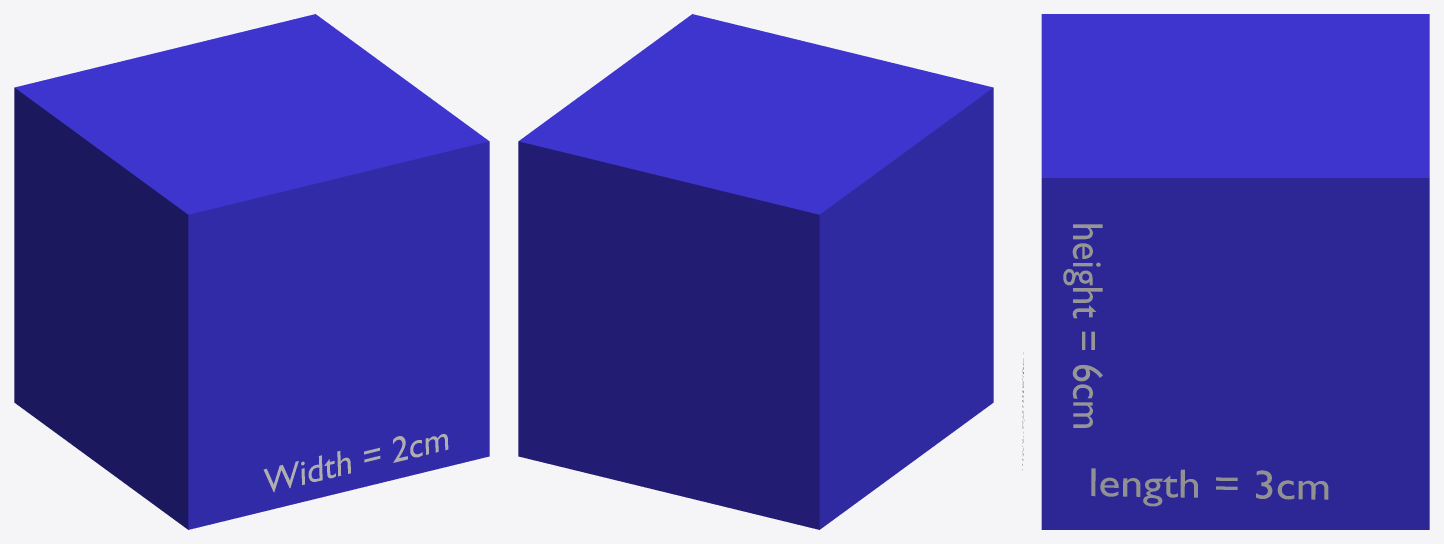
File: rectang2x2x2.glb
3 renders of one model, left to right at view 1: azimuth 30°, elevation 25°; view 2: azimuth 150°, elevation 25°; view 3: azimuth 270°, elevation 25°, orthographic. The views are drawn at different scales.
Parts seen in each view (by area): view 1: Cube, width; view 2: Cube; view 3: Cube, length, height.
Part boxes in pixels (left/top/right/bottom): Cube: left=14, top=14, right=489, bottom=529; width: left=263, top=434, right=448, bottom=491; Cube: left=518, top=14, right=993, bottom=529; Cube: left=1041, top=14, right=1429, bottom=529; length: left=1091, top=468, right=1328, bottom=506; height: left=1063, top=224, right=1102, bottom=427.
Size of the model in its own units: 0.2052 by 0.2 by 0.21.
